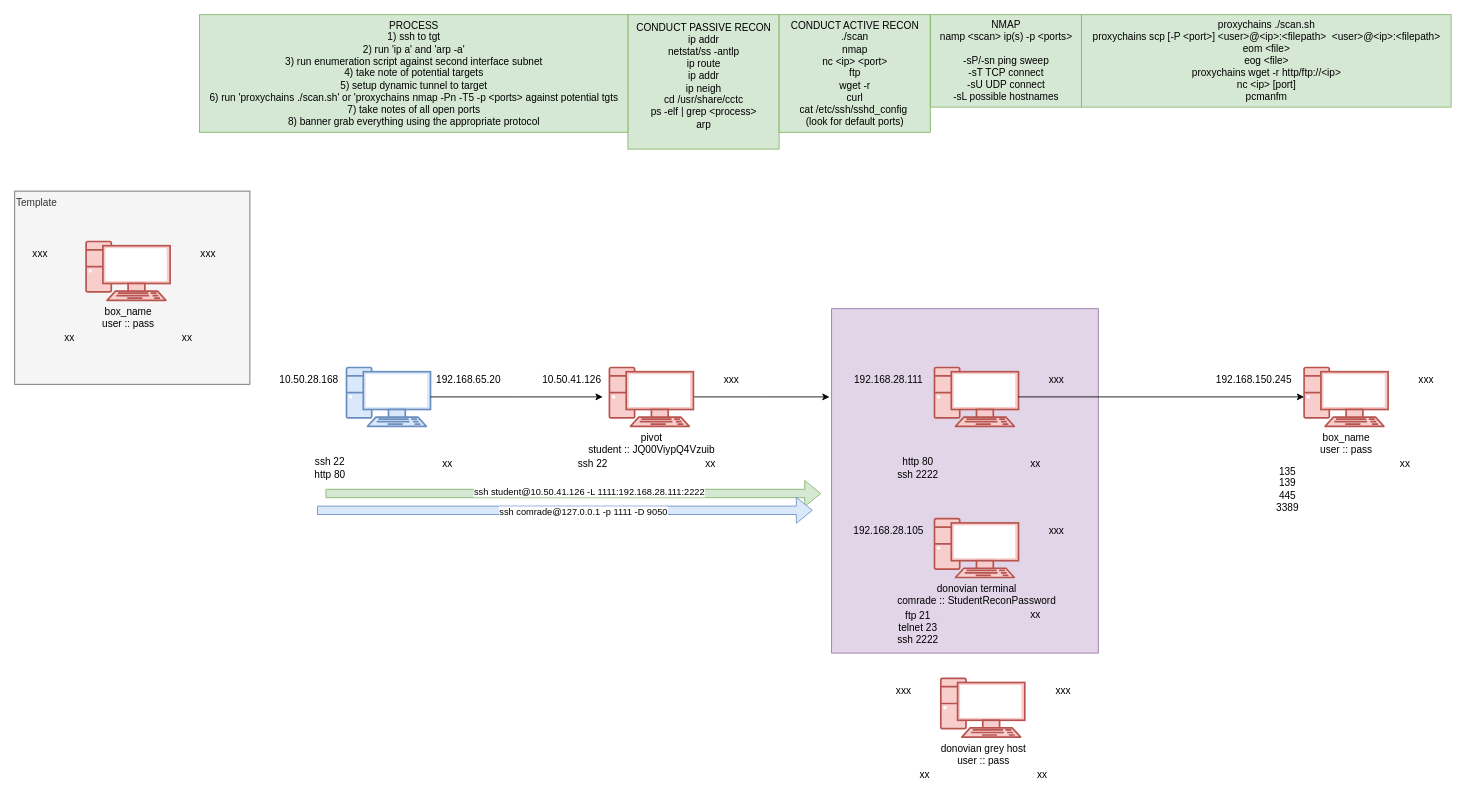
This 1478x802 diagram has some shape labels left out. Here are the shapes that lost their labels. From the top down, the centre of each, then its label:
At (x=388, y=396): "lin-ops student :: password".
At (x=976, y=396): "donovian webserver comrade :: StudentWebExploitPassword".
